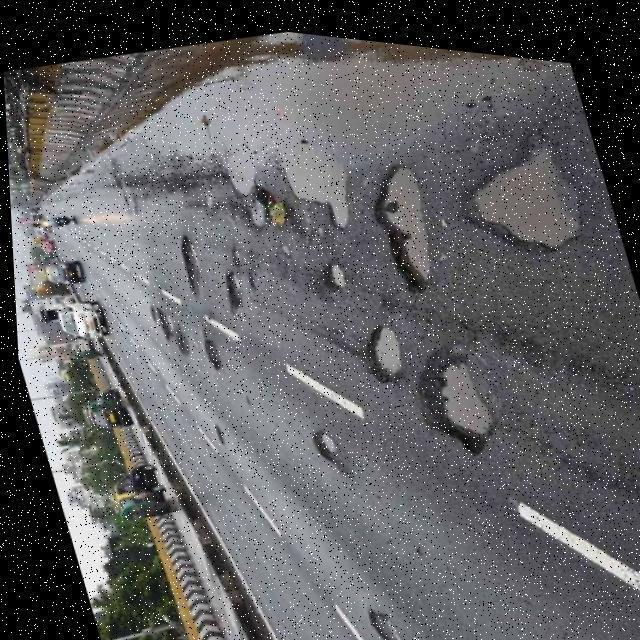Pothole: (461, 137, 582, 254), (415, 340, 500, 456), (371, 158, 432, 297), (366, 323, 405, 388), (313, 428, 359, 479), (365, 602, 404, 640), (182, 235, 201, 294), (224, 267, 244, 315), (250, 194, 270, 231), (156, 306, 175, 344), (204, 336, 223, 373), (320, 254, 342, 279), (177, 330, 186, 354)
